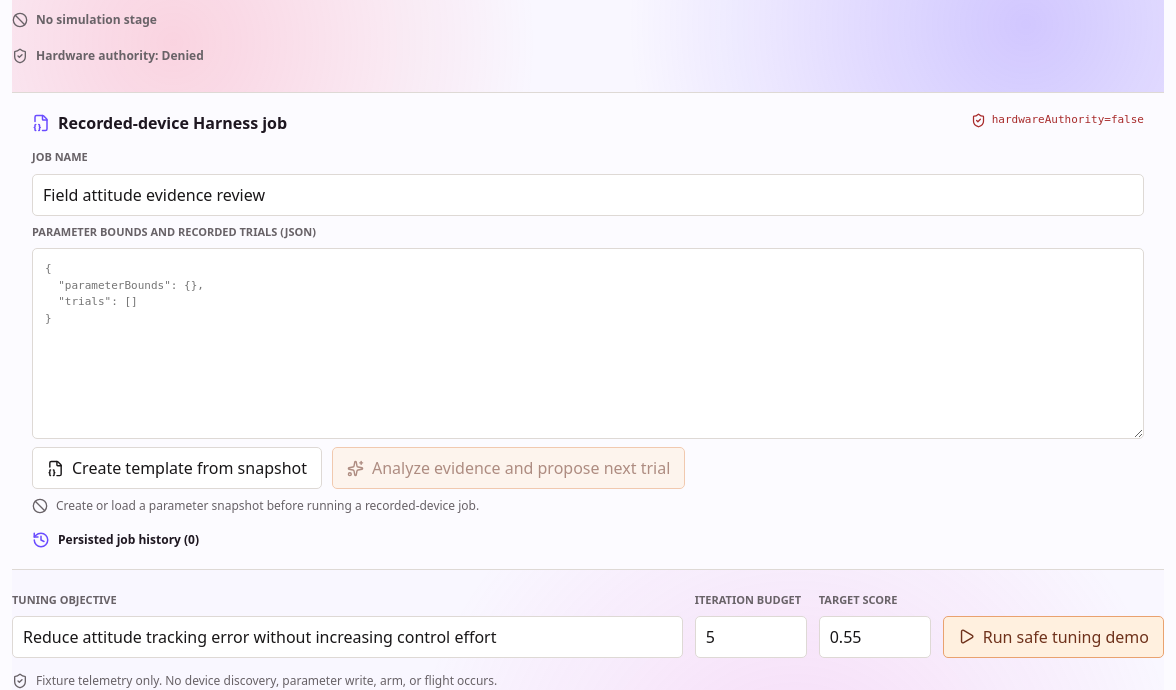
Scenario: FieldTuningWorkspace › runs the complete fixture Model and Harness loop without hardware authority
Click the button "Run safe tuning demo" at point(1053, 636), box [943, 616, 1164, 658]
(page scrolled)
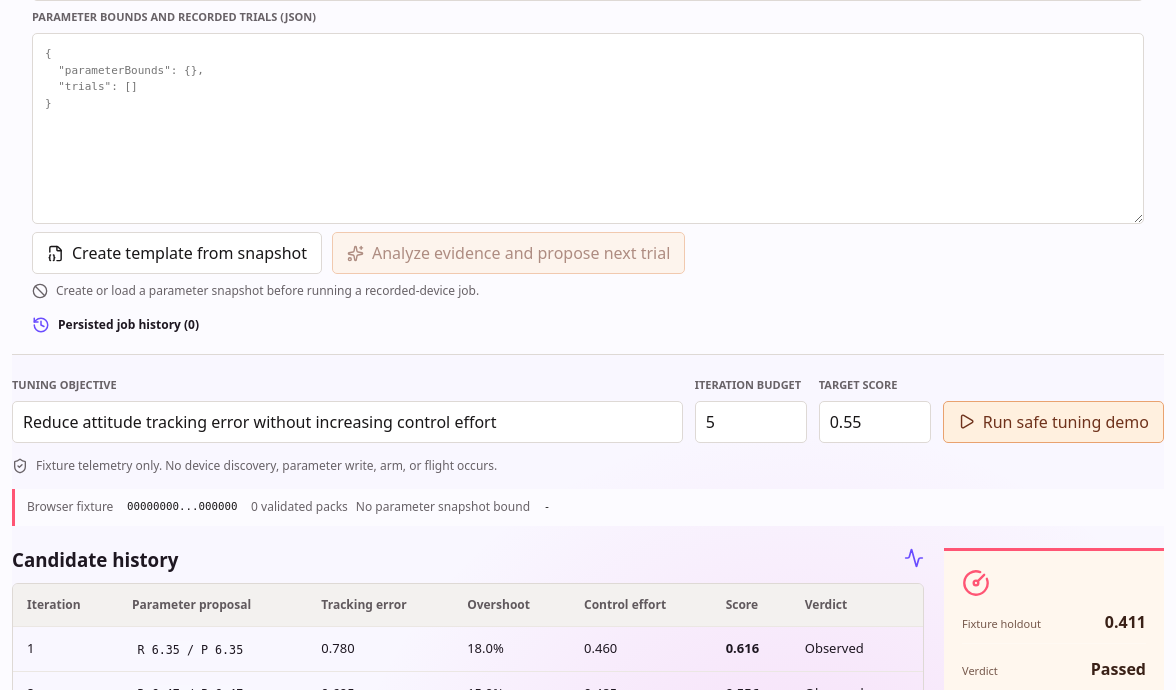
expect the heading "Candidate history" is shown: met, box [12, 548, 178, 571]
expect the number of rows is 6: met
expect the text "Fixture holdout" is shown: met, box [962, 616, 1041, 632]
